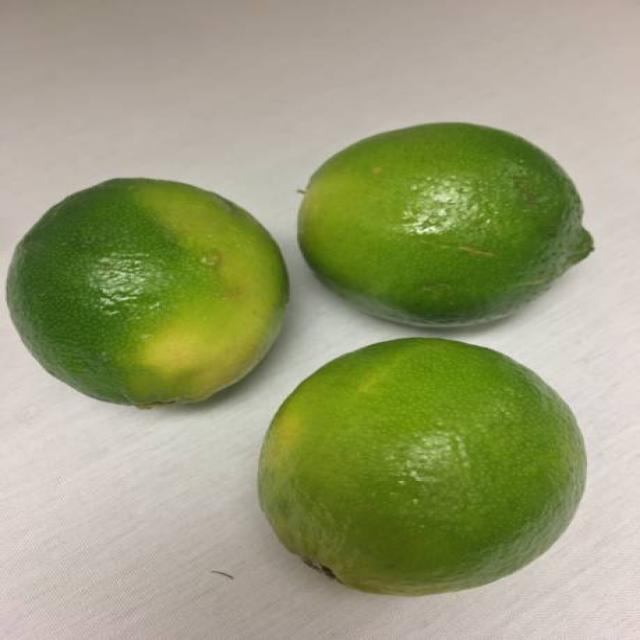Unripe: (258, 335, 588, 599), (4, 175, 288, 404), (300, 123, 599, 330)
